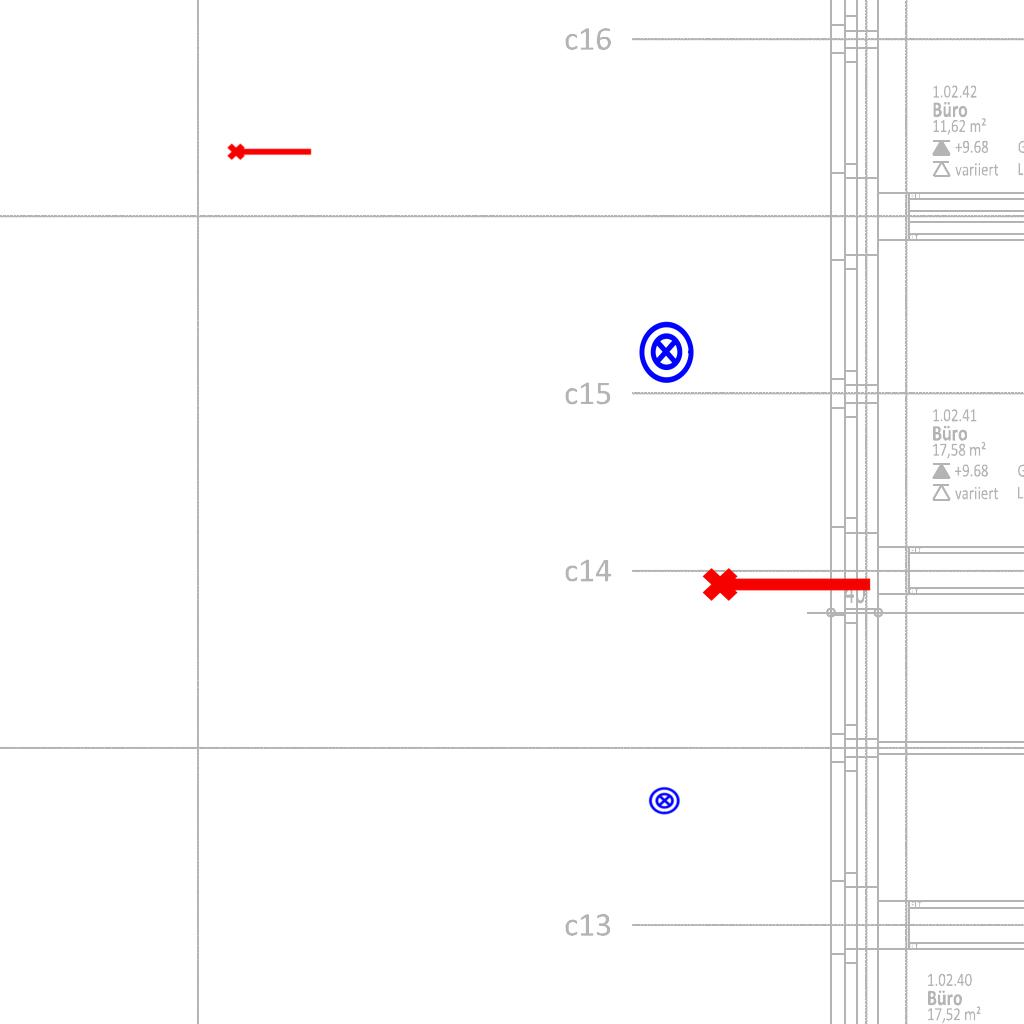ASR_Ansaugoeffnung: (700, 559, 876, 605), (226, 139, 314, 162)
Taster_beleuchtet: (633, 319, 699, 385), (648, 784, 681, 817)
